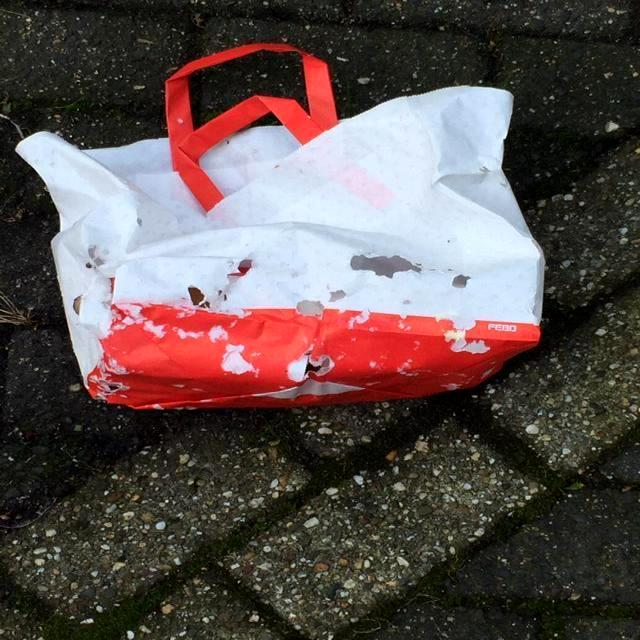Paper: (12, 39, 550, 413)
